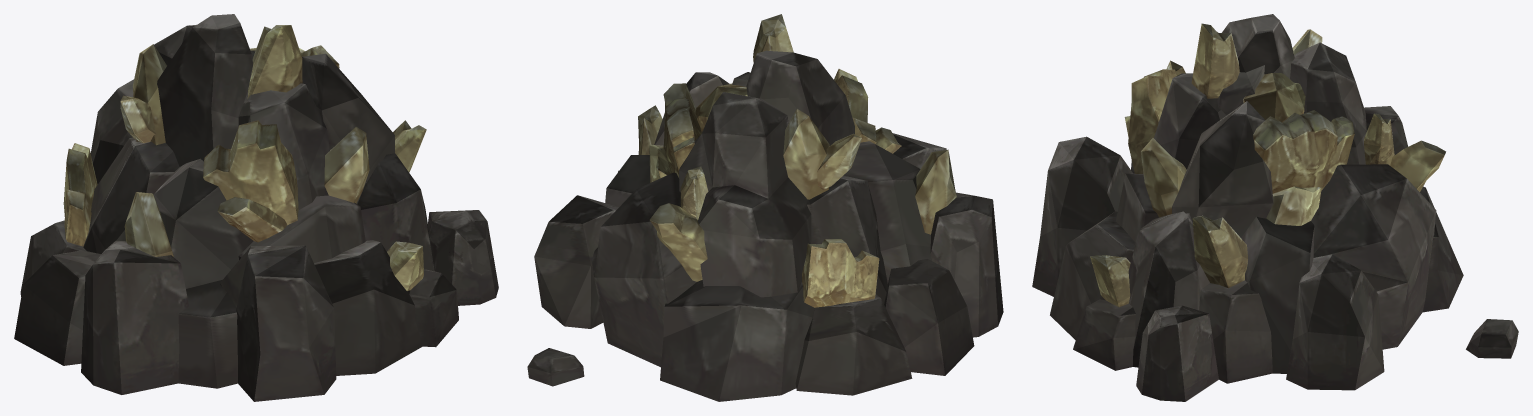
Rendered from mi_nitermine.FBX.
3 renders of one model, left to right at view 1: azimuth 30°, elevation 25°; view 2: azimuth 150°, elevation 25°; view 3: azimuth 270°, elevation 25°, orthographic. The views are drawn at different scales.
Parts seen in each view (by area): view 1: mi_nitermine; view 2: mi_nitermine; view 3: mi_nitermine.
Part boxes in pixels (left/top/right/bottom): mi_nitermine: left=14, top=14, right=498, bottom=401; mi_nitermine: left=527, top=14, right=1003, bottom=401; mi_nitermine: left=1032, top=14, right=1518, bottom=401.
Size of the model in its own units: 1.77 by 1.19 by 1.84.
